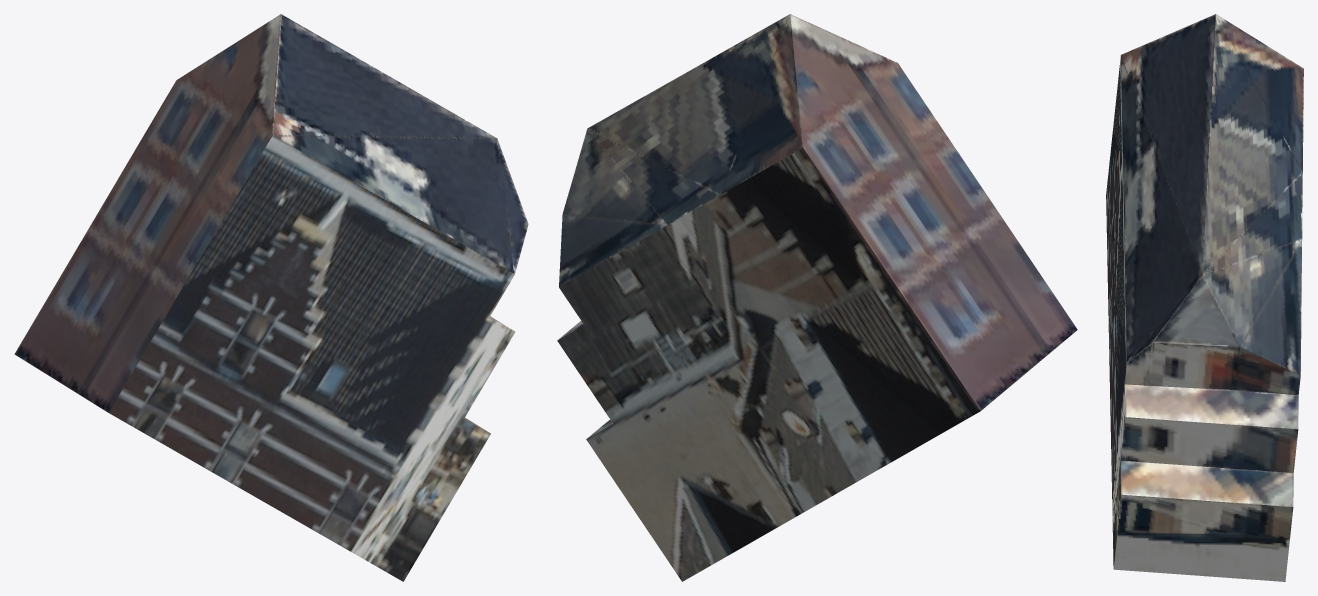
3 views of the same model, side by side, from view 1: azimuth 30°, elevation 25°; view 2: azimuth 150°, elevation 25°; view 3: azimuth 270°, elevation 25° (orthographic). The views are drawn at different scales.
Visible parts, largest first — view 1: BAG_0599100000671811 (×2); view 2: BAG_0599100000671811 (×2); view 3: BAG_0599100000671811 (×2).
Boxes of the visible parts, x1,y1,x2,y2 form: BAG_0599100000671811 (×2): (14, 14, 528, 581); BAG_0599100000671811 (×2): (557, 14, 1077, 581); BAG_0599100000671811 (×2): (1106, 14, 1303, 581).
Bounding box in the file's own units: 16.46 × 19.74 × 6.62.
Materials: 2 (2 with a texture image).
